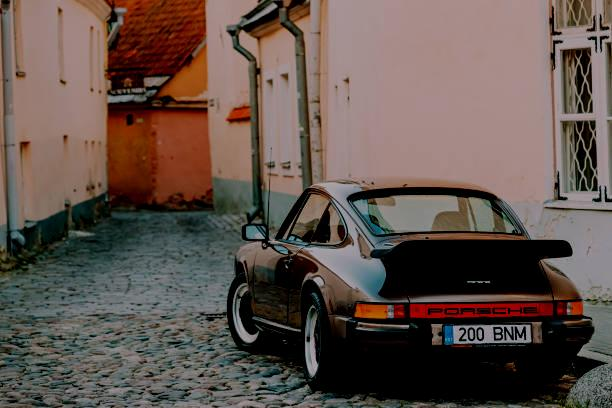porsche: (420, 300, 544, 318)
